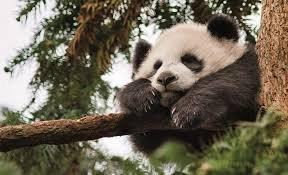bear: (119, 14, 258, 151)
